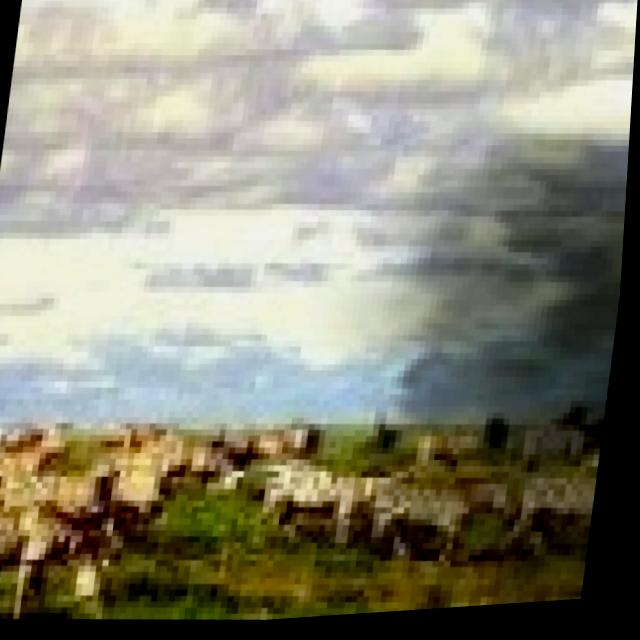smoke: (268, 72, 635, 624)
